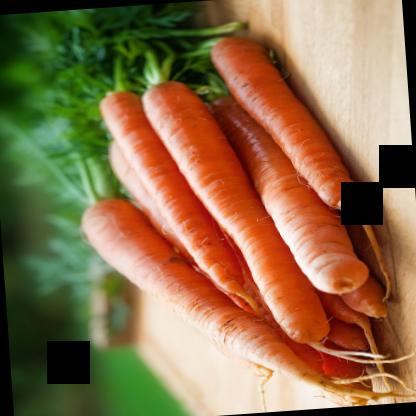carrot: (80, 182, 367, 416), (140, 71, 324, 351), (96, 81, 262, 313), (209, 83, 374, 299), (210, 26, 366, 220)
